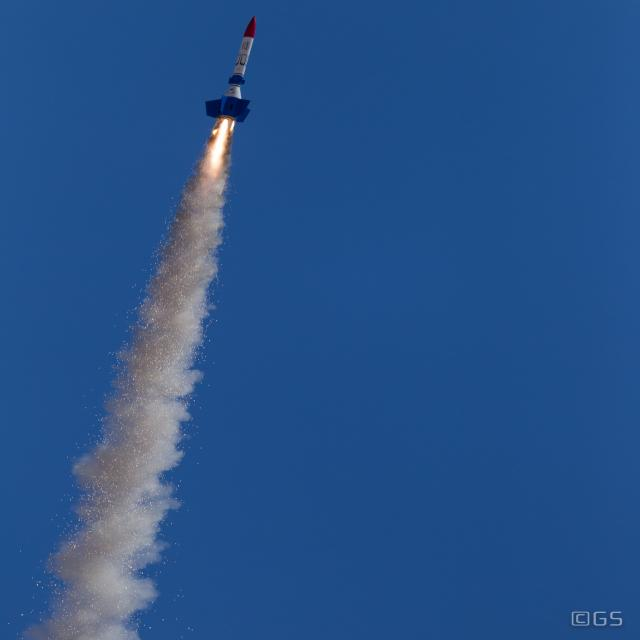Rocket: (204, 14, 257, 122)
